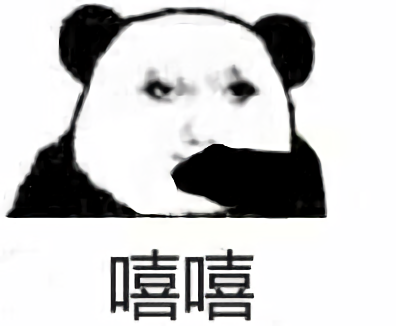dragon: (136, 65, 266, 157)
